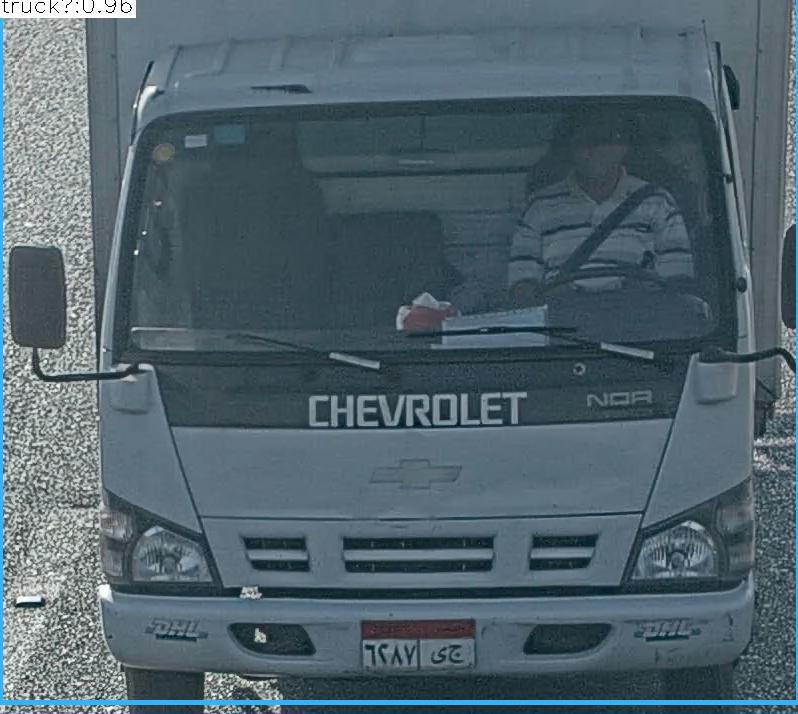windshield: (104, 90, 740, 378)
